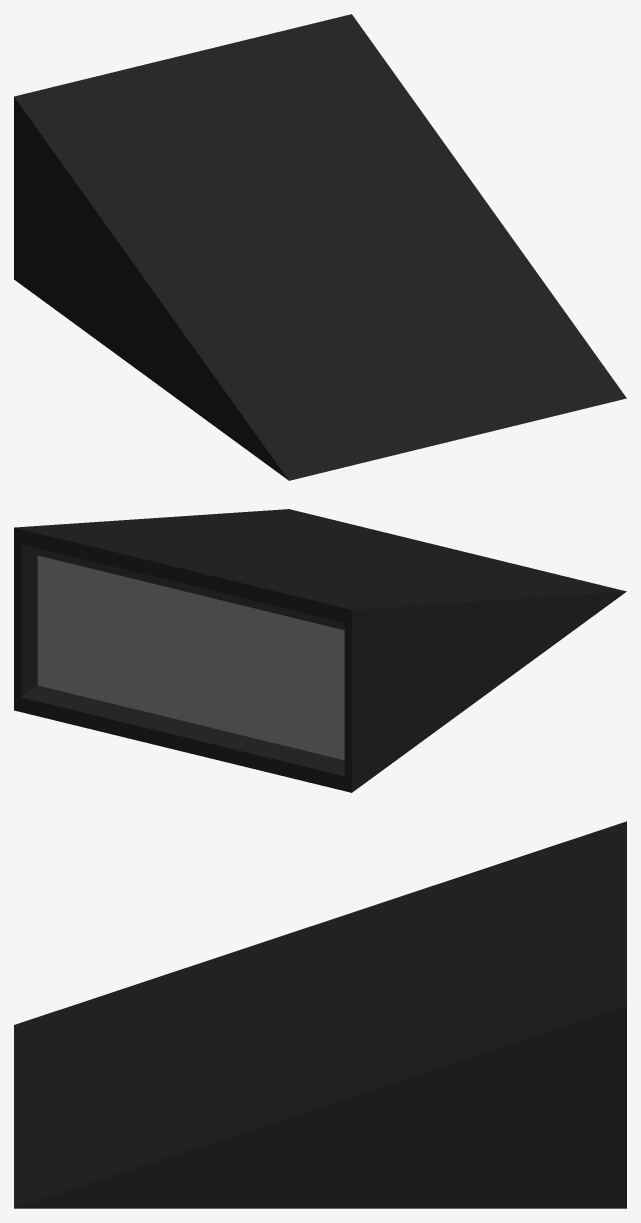
File: spoiler3.glb
The picture shows the model from 3 angles, top to bottom: view 1: azimuth 30°, elevation 25°; view 2: azimuth 150°, elevation 25°; view 3: azimuth 270°, elevation 25°; orthographic projection. The views are drawn at different scales.
Parts seen in each view (by area): view 1: spoiler3; view 2: spoiler3; view 3: spoiler3.
Boxes of the visible parts, x1=… form: spoiler3: x1=14, y1=14, x2=626, y2=480; spoiler3: x1=14, y1=509, x2=626, y2=792; spoiler3: x1=14, y1=821, x2=626, y2=1208.
Bounding box in the file's own units: 1.49 × 0.77 × 2.1.
Materials: 1 (1 with a texture image).
